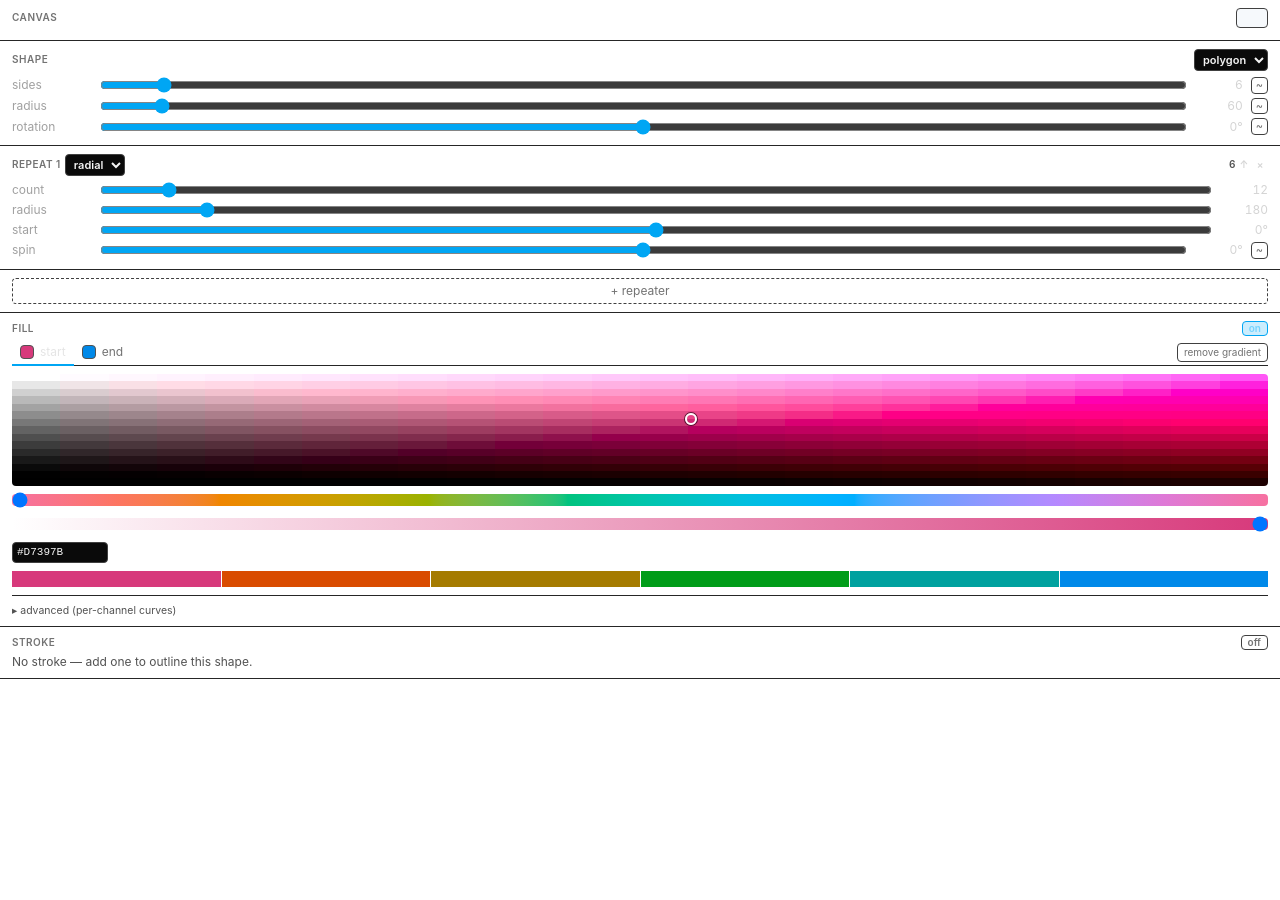
Test: Inspector › warns on a modulated field when the evaluation truncated
The width and height of the screenshot is (1280, 900).
Click the button "▸ advanced (per-channel curves)".
click(97, 610)  # box [12,595,1268,618]
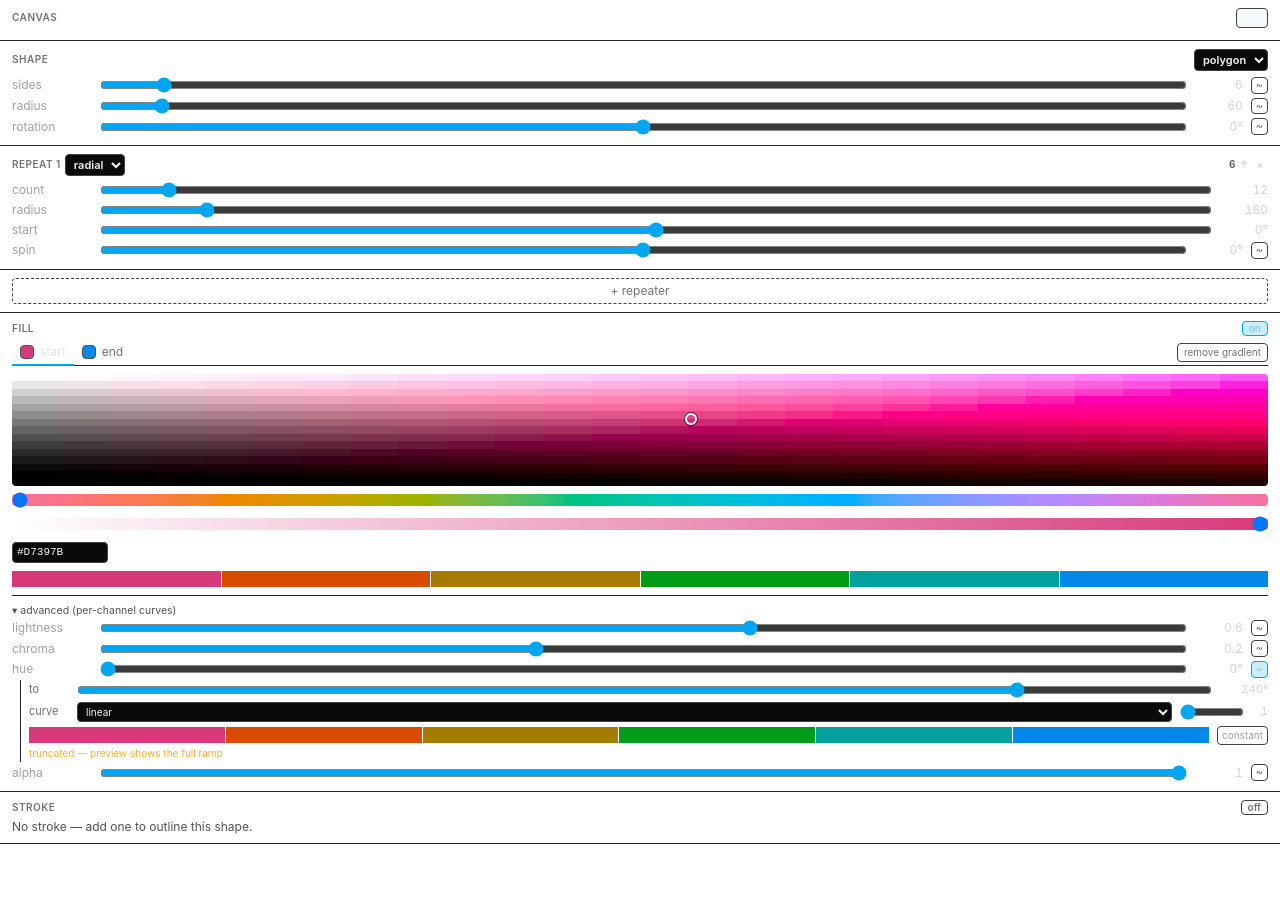
Check: the text "truncated — preview shows the full ramp" is shown, box [29,747,223,759]
